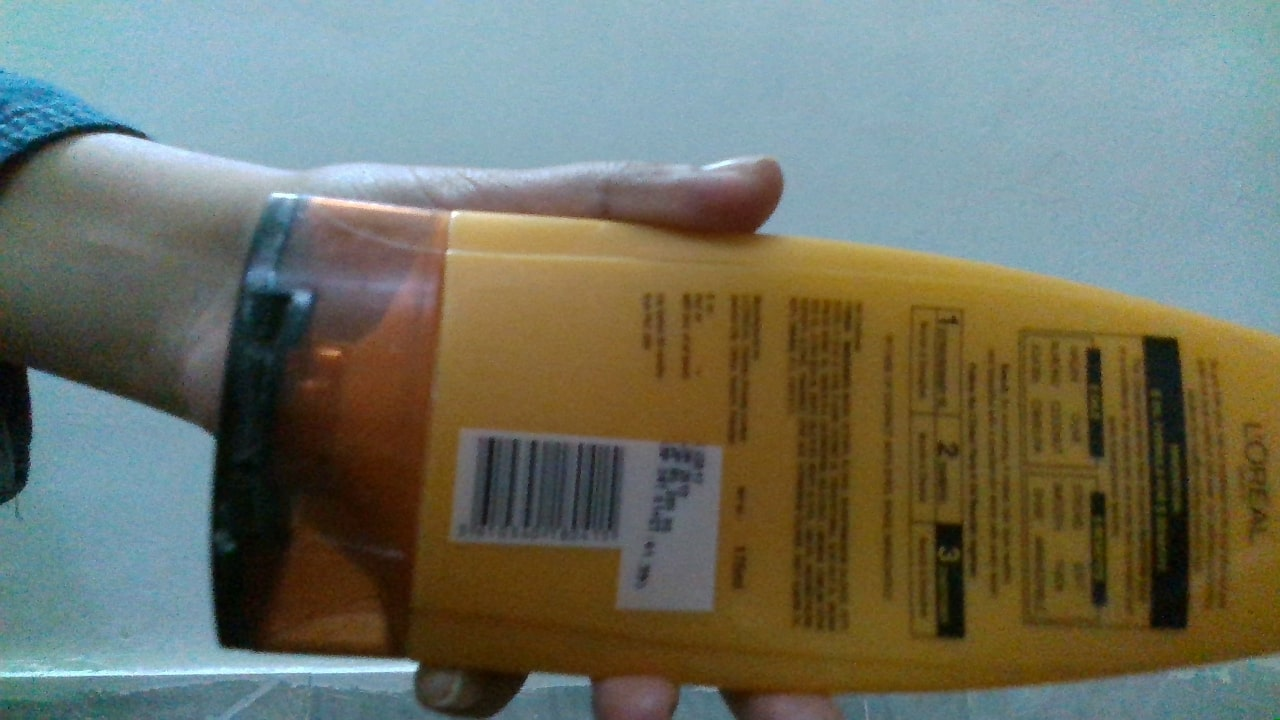Barcode: (468, 433, 627, 546)
